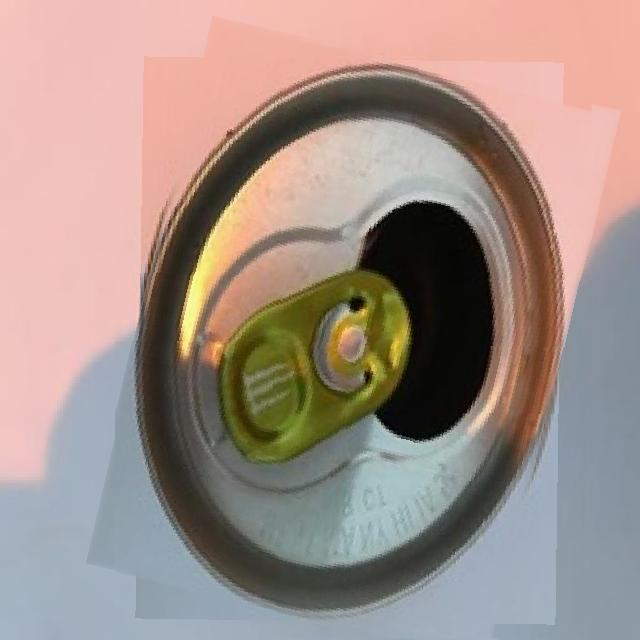recyclable: (115, 36, 593, 638)
